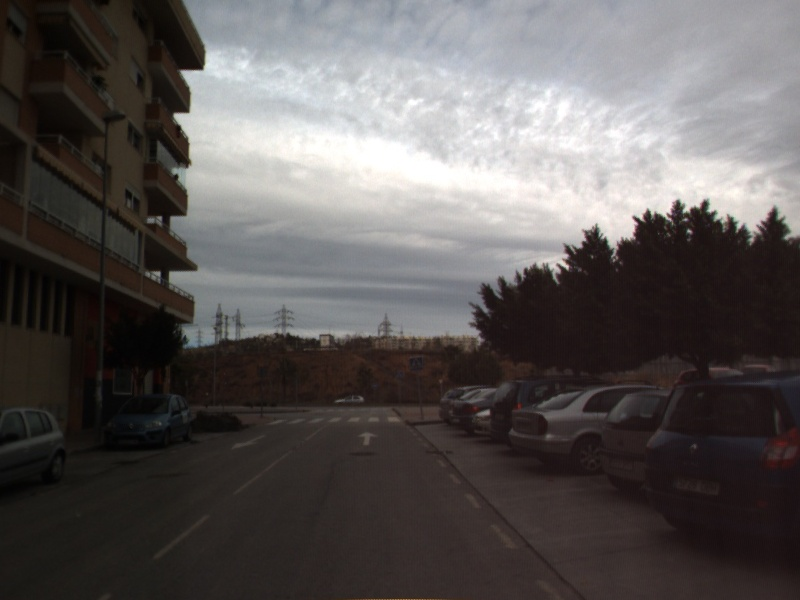STRAIGHT: (355, 429, 380, 447)
